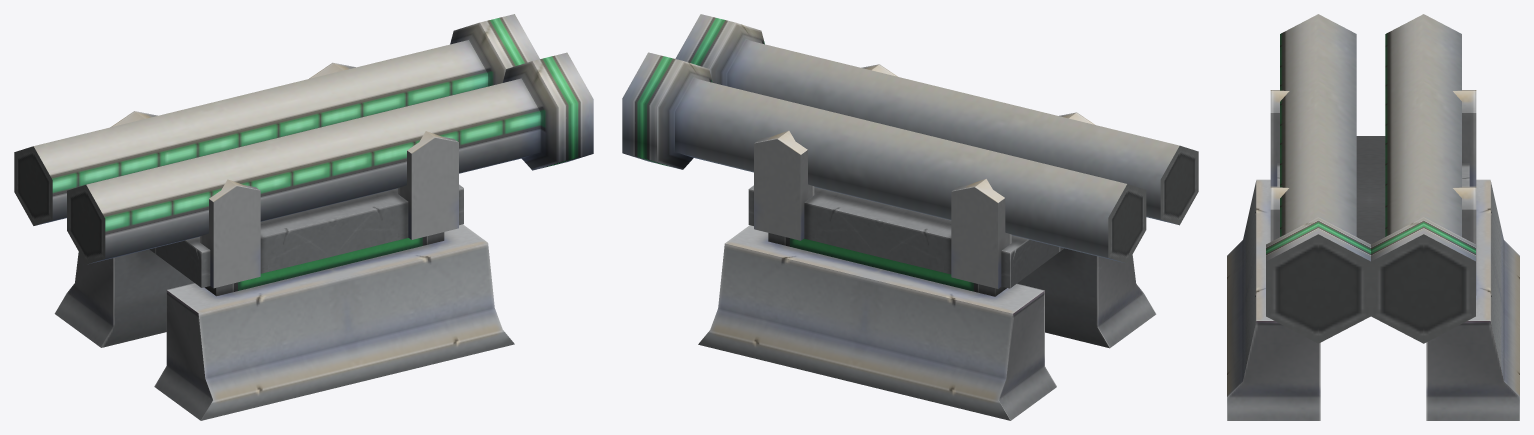
File: PK_model_waterpipe02.FBX
3 renders of one model, left to right at view 1: azimuth 30°, elevation 25°; view 2: azimuth 150°, elevation 25°; view 3: azimuth 270°, elevation 25°, orthographic.
Visible parts, largest first — view 1: PK_model_waterpipe02; view 2: PK_model_waterpipe02; view 3: PK_model_waterpipe02.
Boxes of the visible parts, bbox=[...] form: PK_model_waterpipe02: bbox=[14, 14, 593, 420]; PK_model_waterpipe02: bbox=[622, 14, 1198, 420]; PK_model_waterpipe02: bbox=[1227, 14, 1519, 420].
Size of the model in its own units: 330 by 154 by 174.
